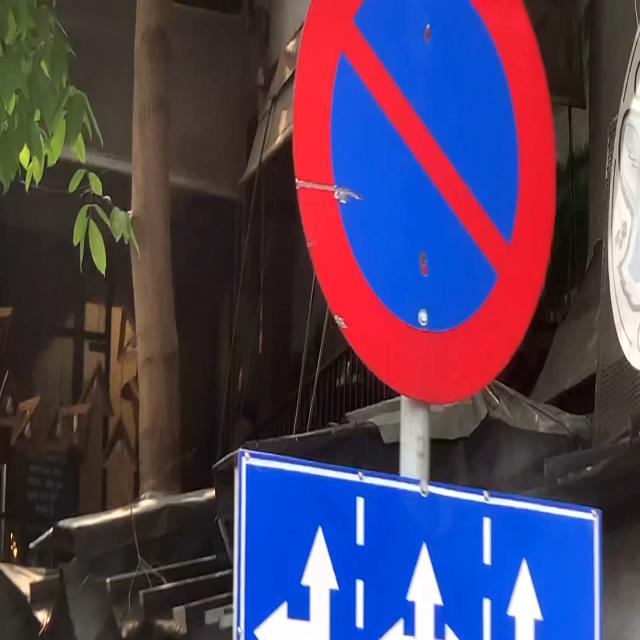P.131a: (283, 0, 560, 410)
